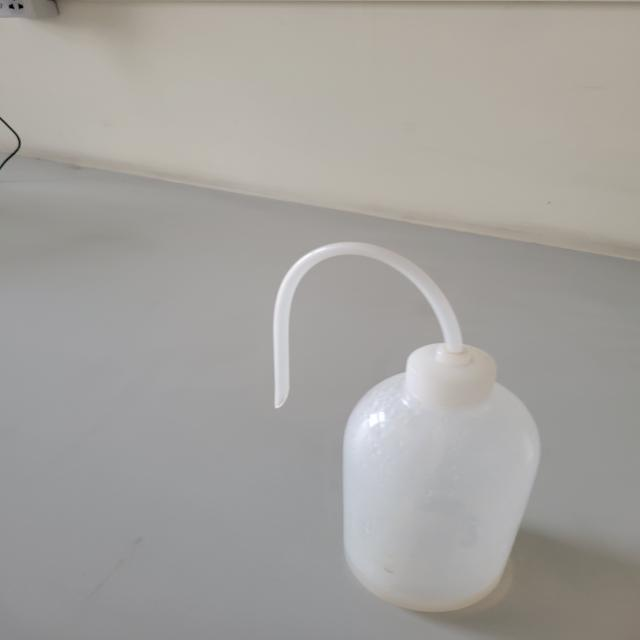Wash_Bottle: (182, 191, 560, 640)
